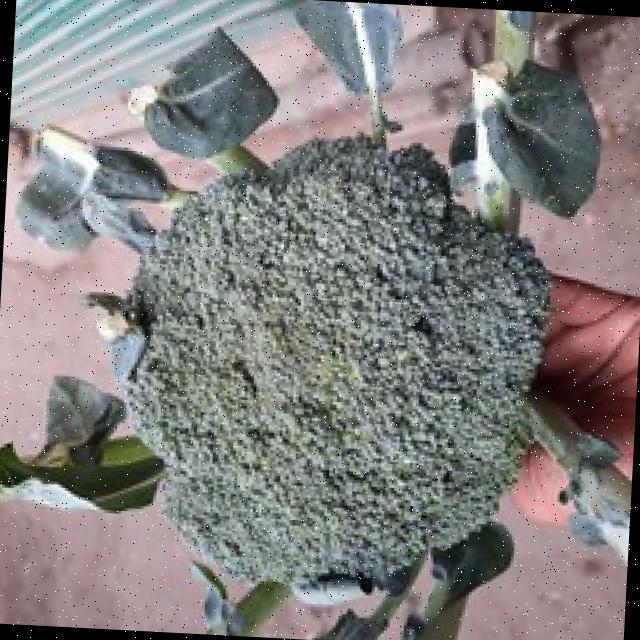Broccoli: (128, 139, 550, 582), (128, 139, 549, 582)
